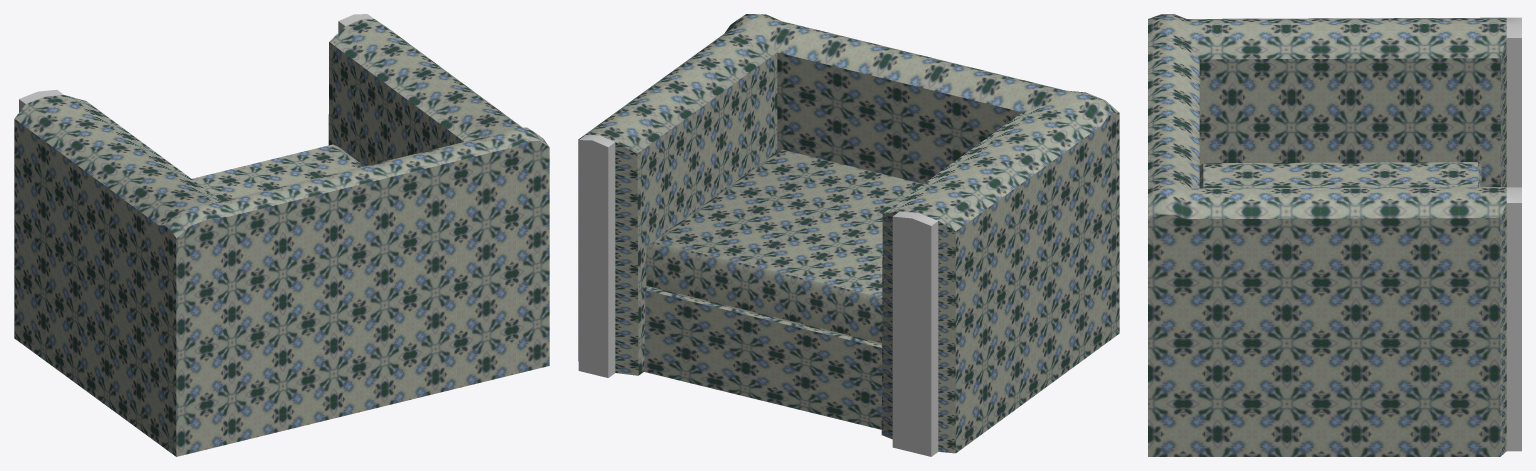
Rendered from Sofa04.fbx.
3 views of the same model, side by side, from view 1: azimuth 30°, elevation 25°; view 2: azimuth 150°, elevation 25°; view 3: azimuth 270°, elevation 25° (orthographic). The views are drawn at different scales.
Parts seen in each view (by area): view 1: Cube (57); view 2: Cube (57); view 3: Cube (57).
Boxes of the visible parts, <box> form: Cube (57): <box>14,14,549,456</box>; Cube (57): <box>578,14,1119,456</box>; Cube (57): <box>1148,14,1521,456</box>.
Bounding box in the file's own units: 127 × 76.71 × 102.
